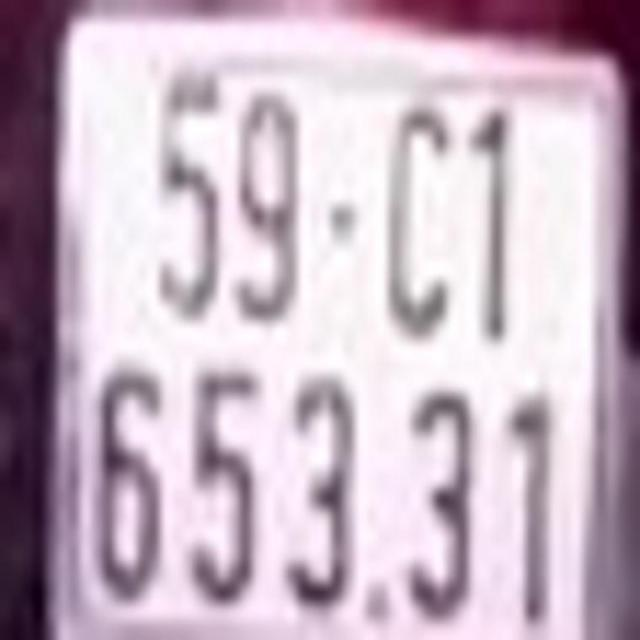1: (468, 110, 511, 344), (509, 397, 550, 618)
3: (293, 372, 351, 604), (411, 398, 472, 612)
5: (188, 357, 264, 606), (150, 88, 224, 322)
6: (90, 374, 170, 592)
9: (240, 111, 302, 324)
C: (387, 112, 453, 343)
